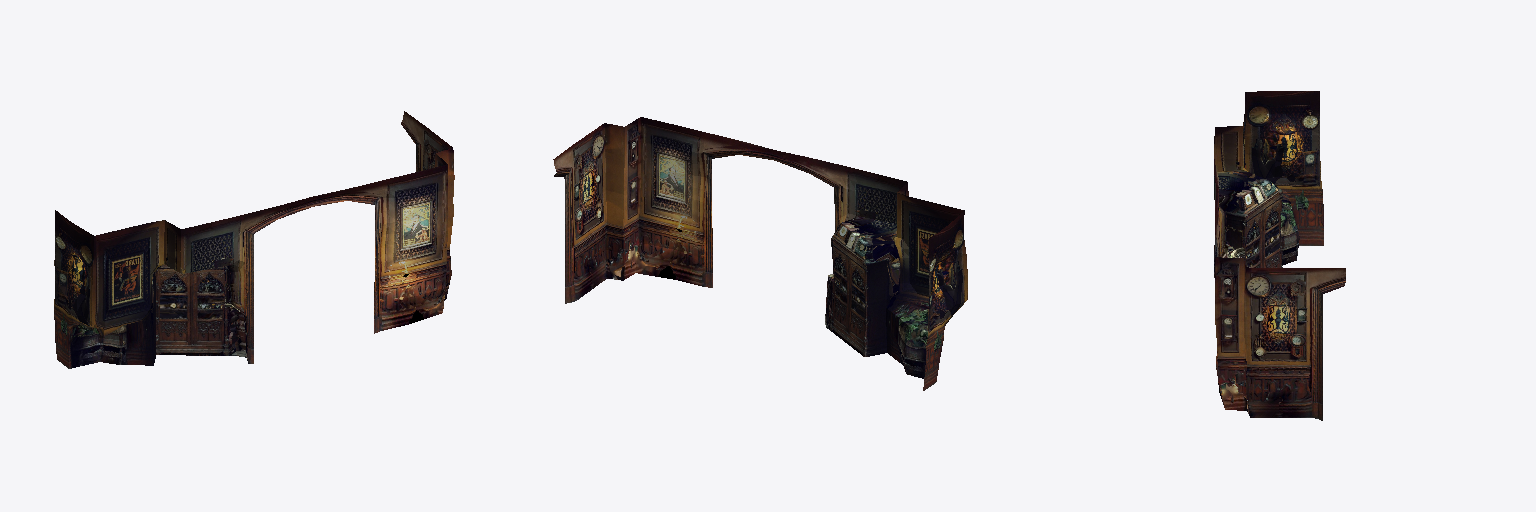
The picture shows the model from 3 angles: view 1: azimuth 30°, elevation 25°; view 2: azimuth 150°, elevation 25°; view 3: azimuth 270°, elevation 25°; orthographic projection.
Parts seen in each view (by area): view 1: LivingRoom_GEO_GRP_LivingRoom_Wall_Left; view 2: LivingRoom_GEO_GRP_LivingRoom_Wall_Left; view 3: LivingRoom_GEO_GRP_LivingRoom_Wall_Left.
Boxes of the visible parts, box(x1,y1,x2,y2) form: LivingRoom_GEO_GRP_LivingRoom_Wall_Left: box(54, 111, 454, 368); LivingRoom_GEO_GRP_LivingRoom_Wall_Left: box(553, 117, 967, 390); LivingRoom_GEO_GRP_LivingRoom_Wall_Left: box(1214, 91, 1345, 420).
Size of the model in its own units: 8.58 by 3.45 by 2.71.
1 materials, 1 textured.